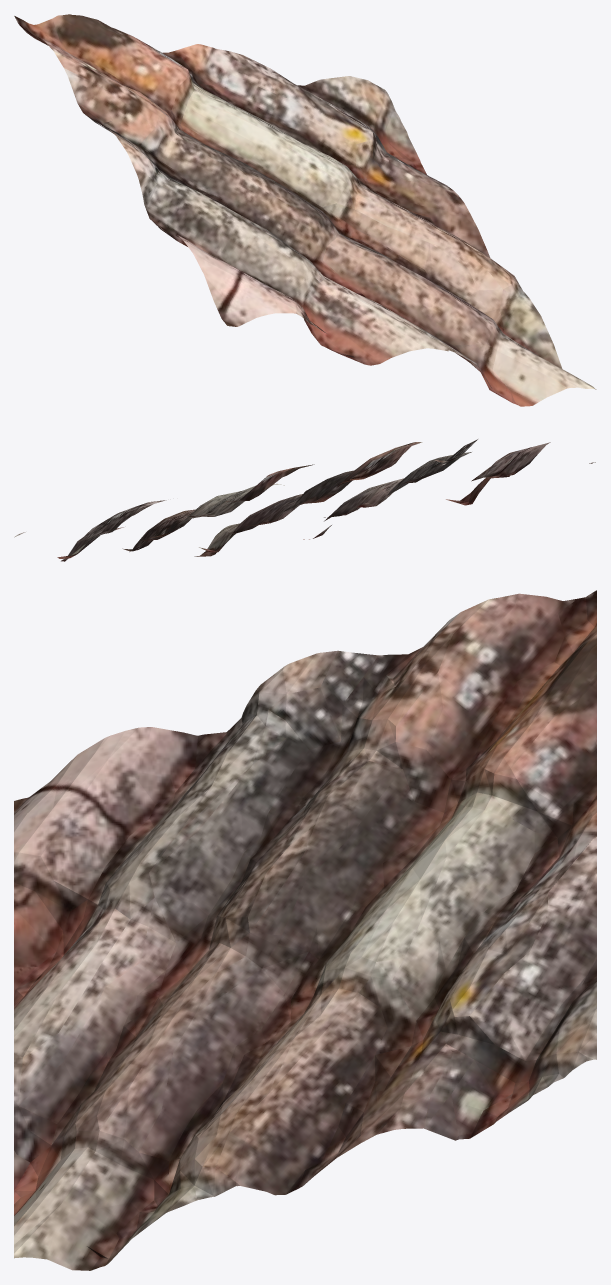
The picture shows the model from 3 angles, top to bottom: view 1: azimuth 30°, elevation 25°; view 2: azimuth 150°, elevation 25°; view 3: azimuth 270°, elevation 25°; orthographic projection. The views are drawn at different scales.
Size of the model in its own units: 0.8374 by 0.6884 by 0.8374.
3 materials, 3 textured.
